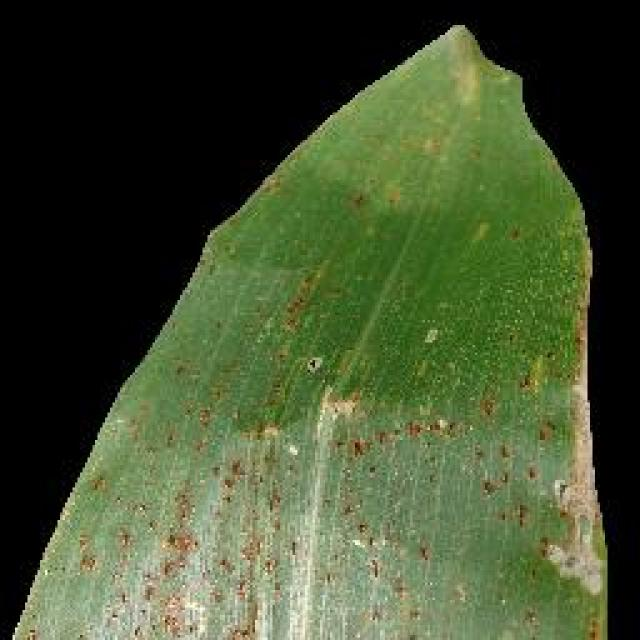Corn Common Rust: (123, 345, 525, 595)
